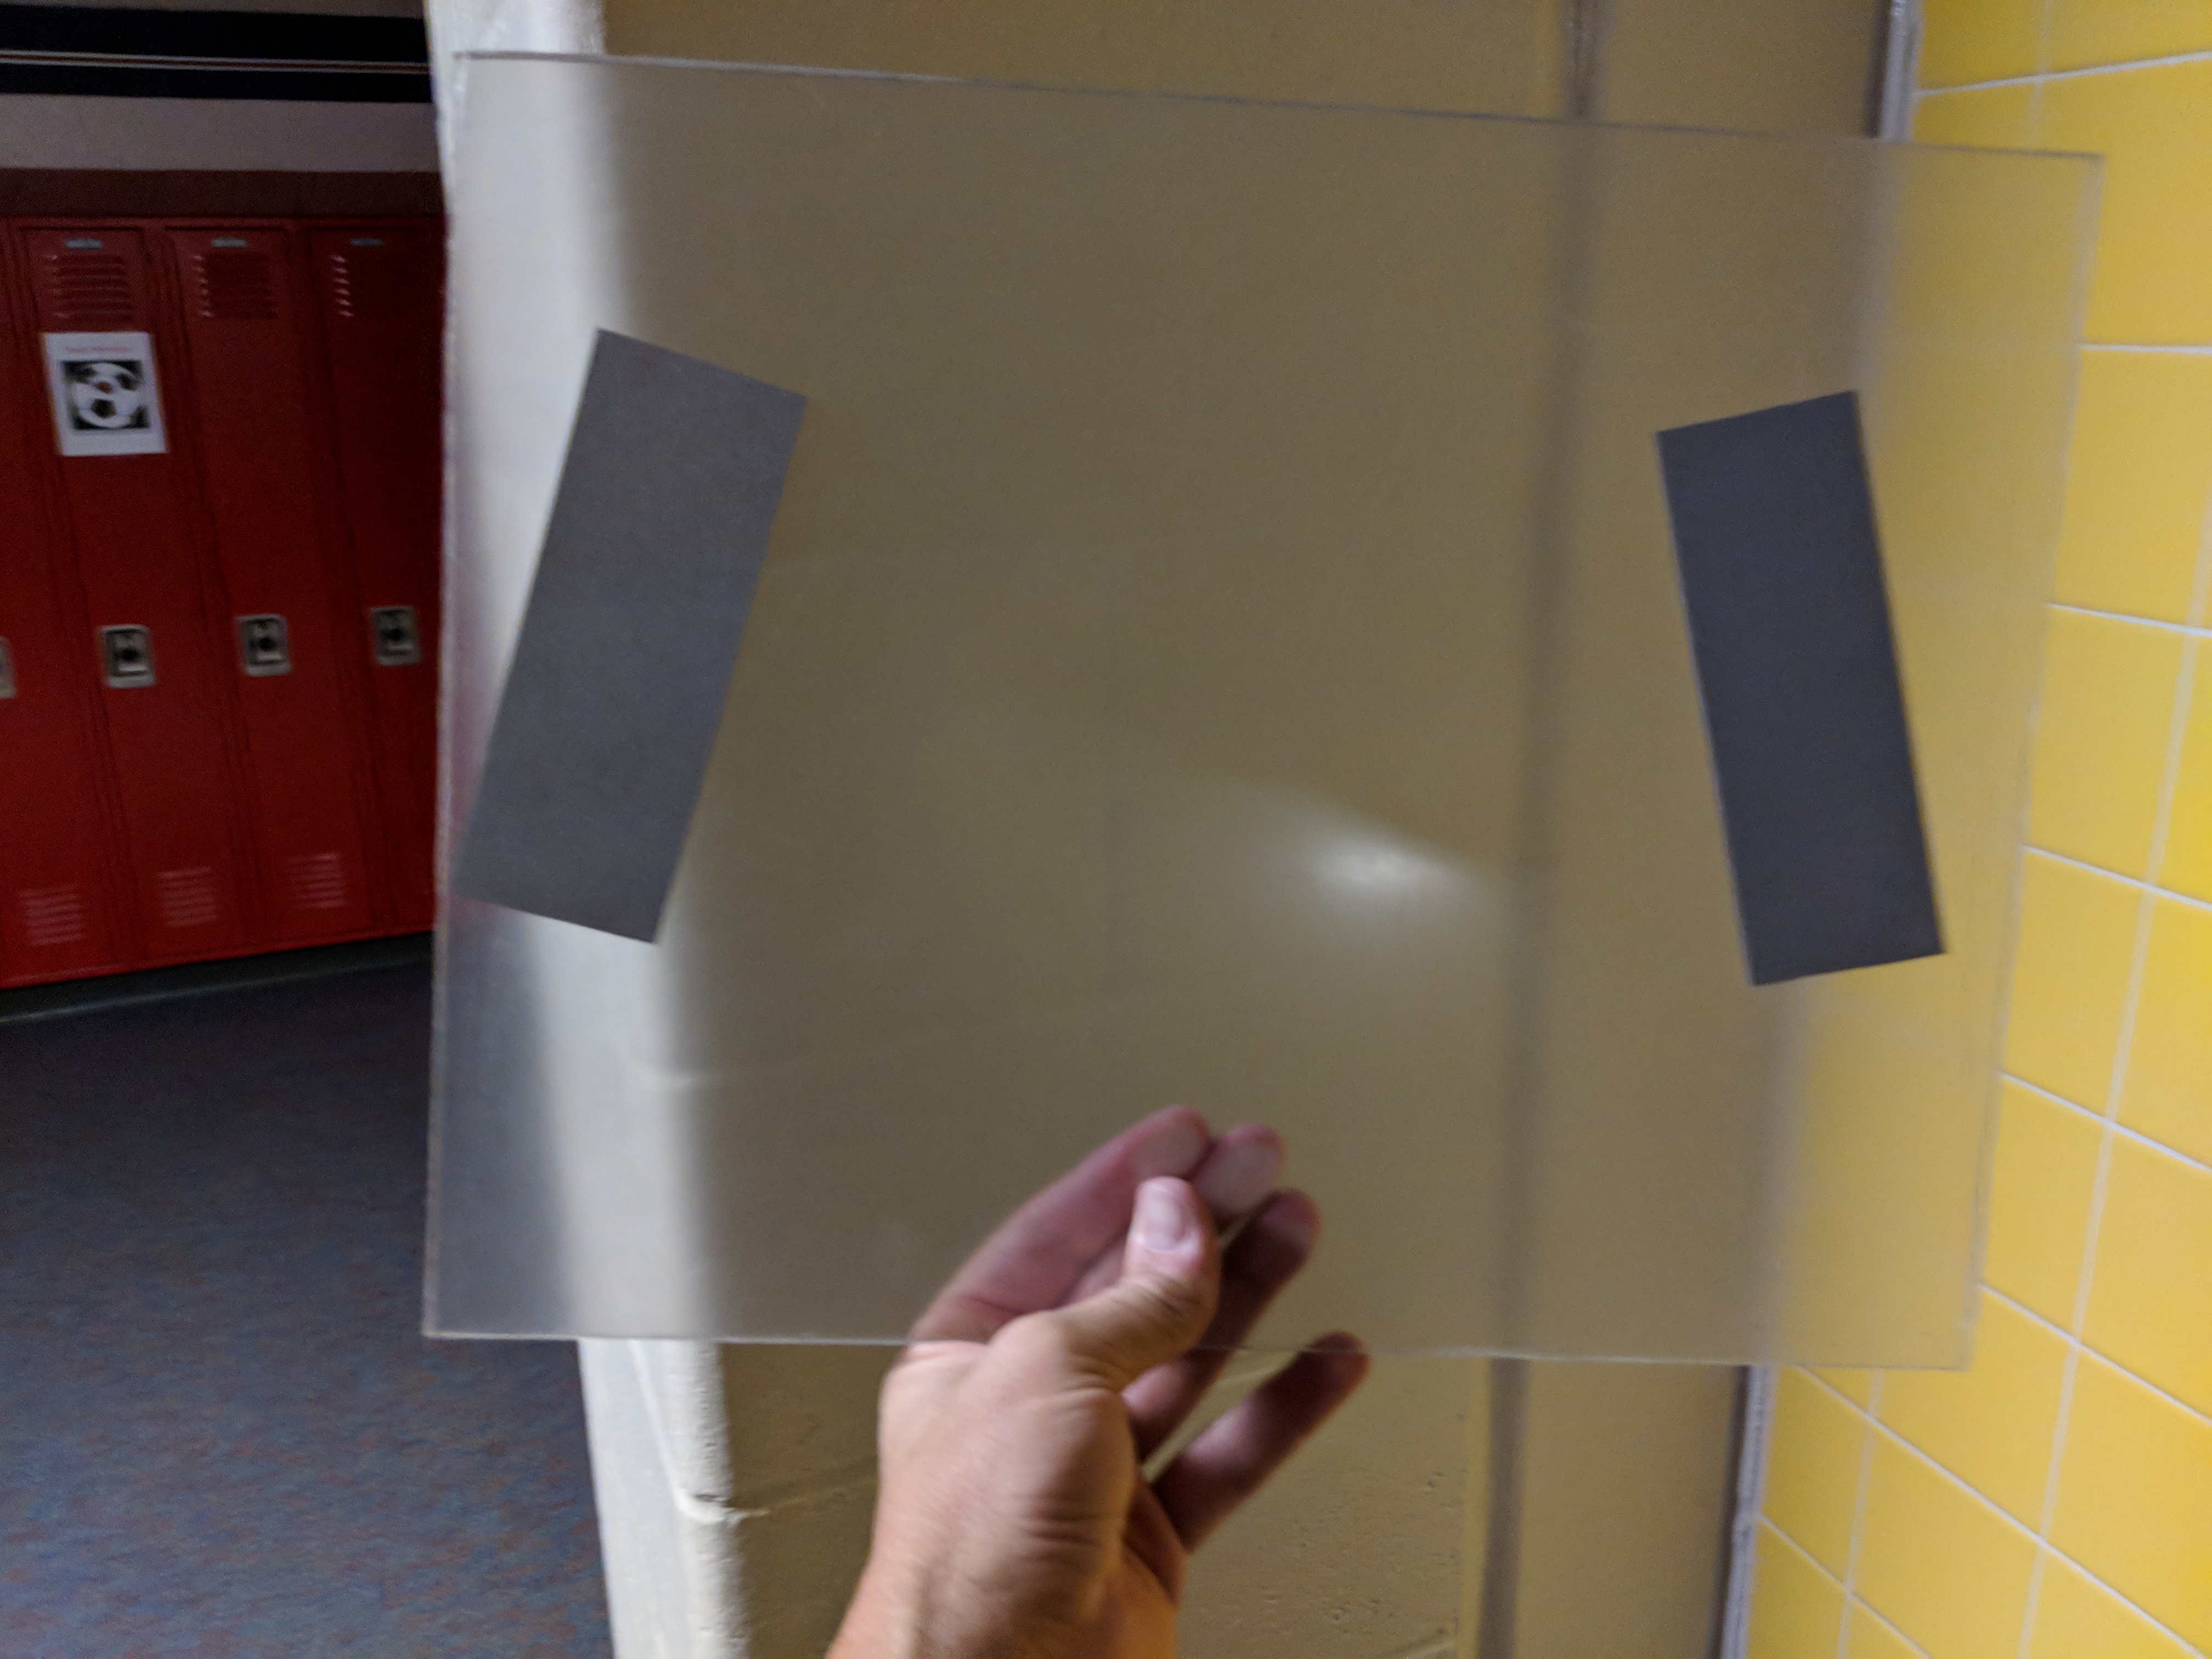vision_target: (446, 314, 1958, 1006)
